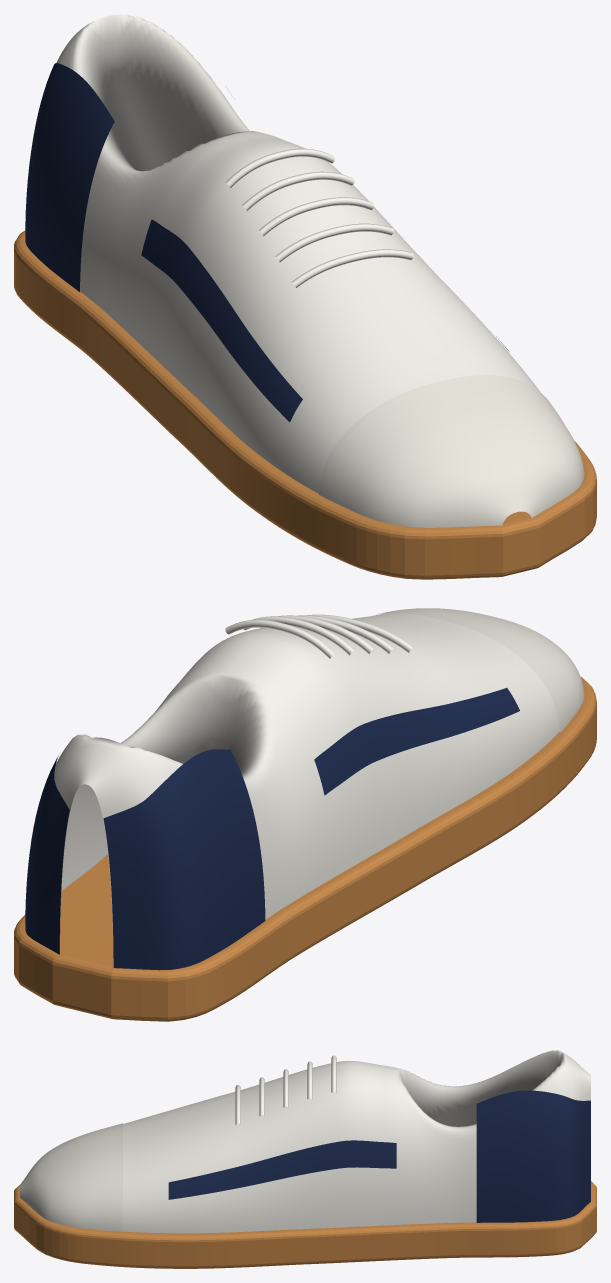
Rendered from but-testowy.glb.
The picture shows the model from 3 angles, top to bottom: view 1: azimuth 30°, elevation 25°; view 2: azimuth 150°, elevation 25°; view 3: azimuth 270°, elevation 25°; orthographic projection. The views are drawn at different scales.
Visible parts, largest first — view 1: cholewka, podeszwa, nosek, zapietek, pas, sznurowka (×5); view 2: cholewka, podeszwa, zapietek (×2), pas, nosek, sznurowka (×5); view 3: cholewka, podeszwa, zapietek, nosek, pas.
Part boxes in pixels (<box>): cholewka: <box>56,14,539,524</box>; podeszwa: <box>14,230,596,579</box>; nosek: <box>318,375,584,527</box>; zapietek: <box>25,63,114,291</box>; pas: <box>141,219,302,422</box>; sznurowka (×5): <box>225,148,413,287</box>; cholewka: <box>54,613,559,967</box>; podeszwa: <box>14,677,596,1021</box>; zapietek (×2): <box>25,749,265,970</box>; pas: <box>314,688,519,795</box>; nosek: <box>376,608,584,731</box>; sznurowka (×5): <box>225,614,413,658</box>; cholewka: <box>123,1050,590,1233</box>; podeszwa: <box>14,1181,596,1268</box>; zapietek: <box>476,1090,590,1222</box>; nosek: <box>20,1123,122,1231</box>; pas: <box>168,1140,396,1199</box>.
Size of the model in its own units: 0.1142 by 0.1014 by 0.3146.
